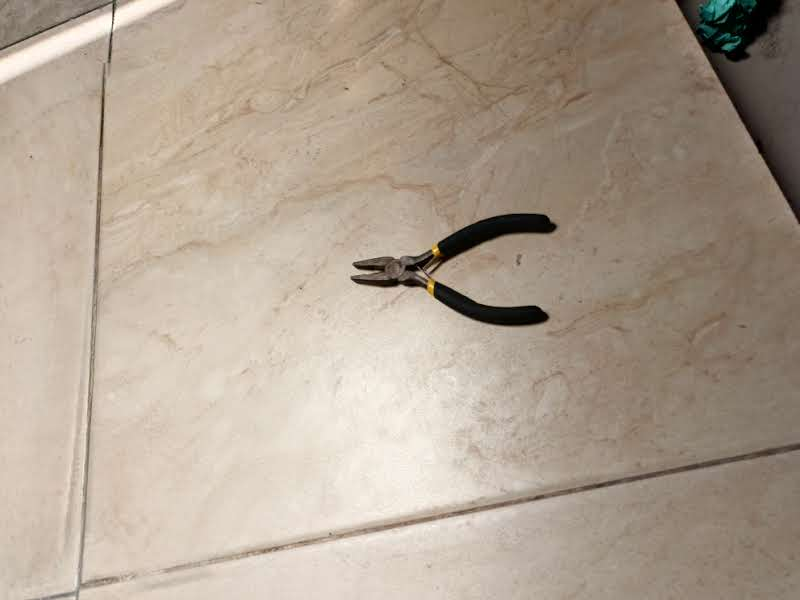Pinzas: (352, 214, 555, 322)
